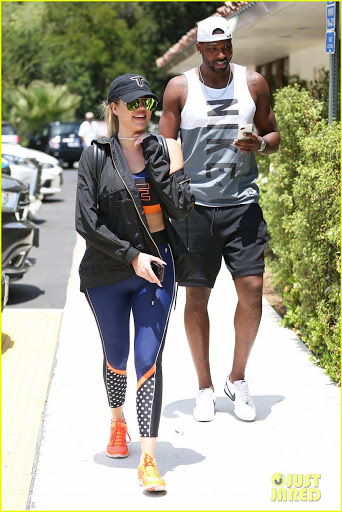Person: (164, 11, 282, 419), (77, 73, 185, 494)
